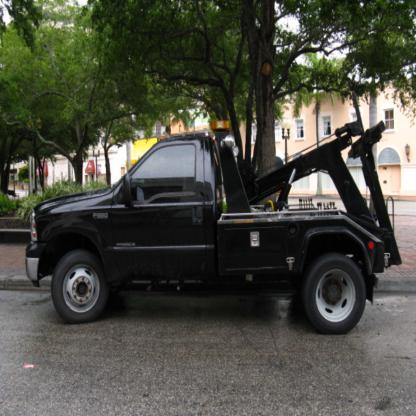Truck: (25, 92, 402, 336)
